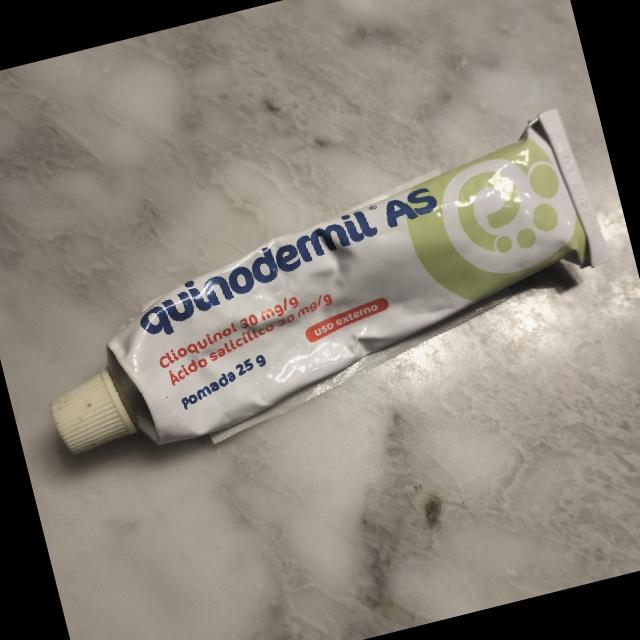tubo: (6, 101, 632, 474)
